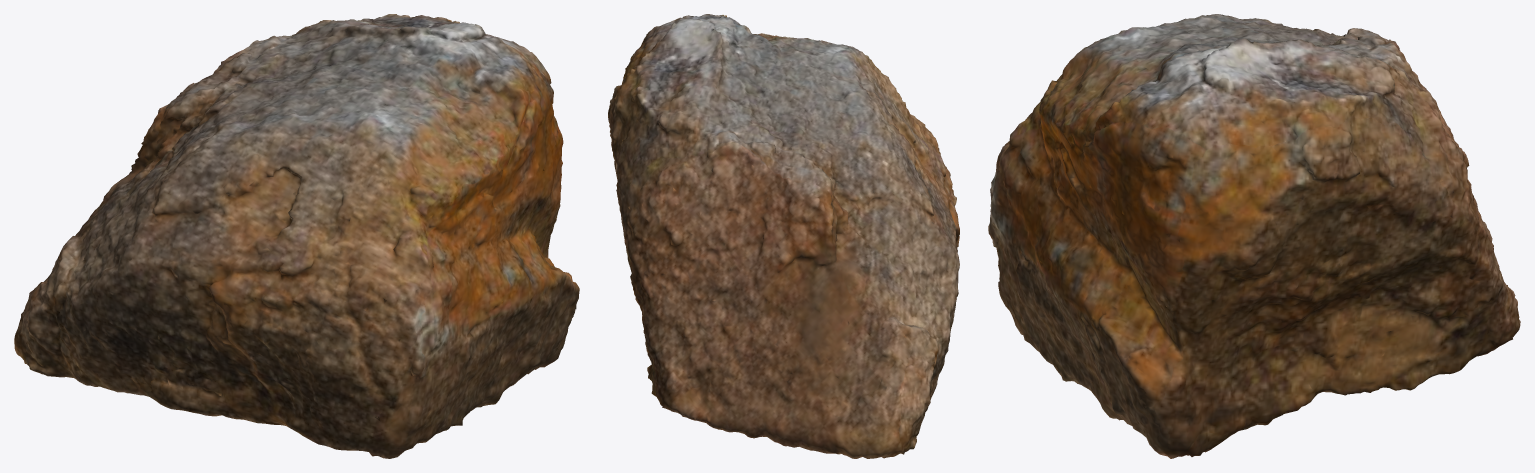
File: namaqualand_boulder_04.glb
3 renders of one model, left to right at view 1: azimuth 30°, elevation 25°; view 2: azimuth 150°, elevation 25°; view 3: azimuth 270°, elevation 25°, orthographic. The views are drawn at different scales.
Visible parts, largest first — view 1: boulder_04; view 2: boulder_04; view 3: boulder_04.
Boxes of the visible parts, x1,y1,x2,y2 form: boulder_04: (14,14,579,458); boulder_04: (608,14,959,458); boulder_04: (988,14,1520,458).
Bounding box in the file's own units: 2.52 × 1.9 × 2.5.
Materials: 1 (1 with a texture image).
